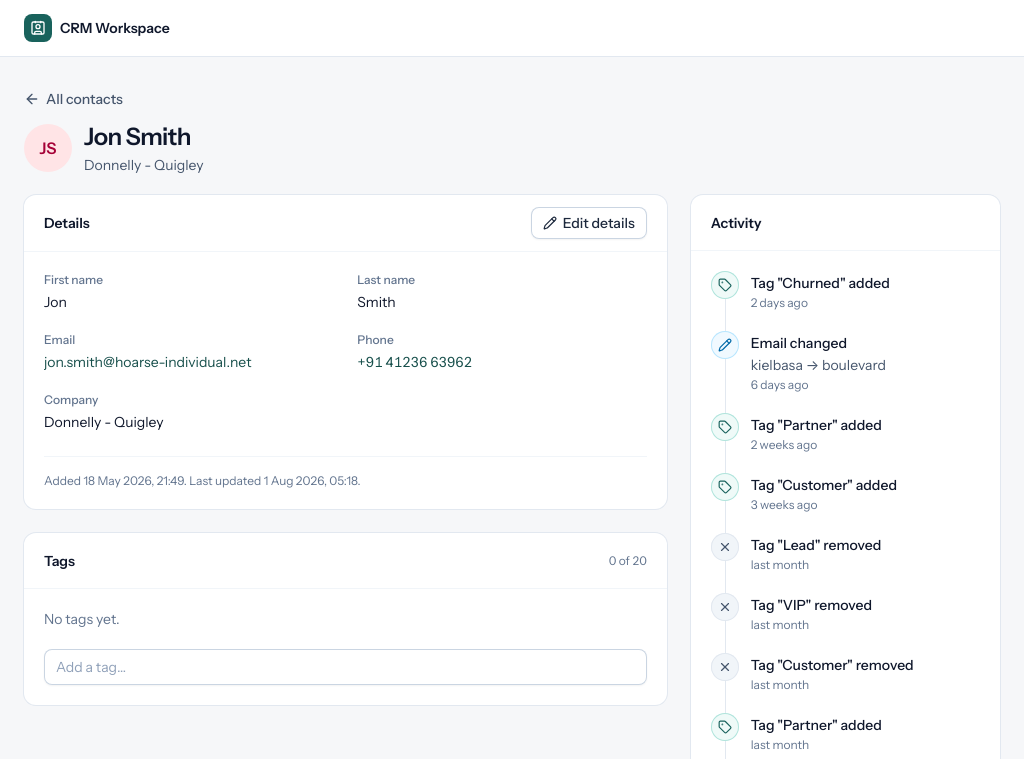
it: stale saves after the contact refreshed mid-edit › still detects the conflict when a tag change refreshed the contact during the edit
This screenshot has width=1024, height=759.
Click the button "Edit details" at [589, 223], box top-left (531, 207), bottom-right (647, 239)
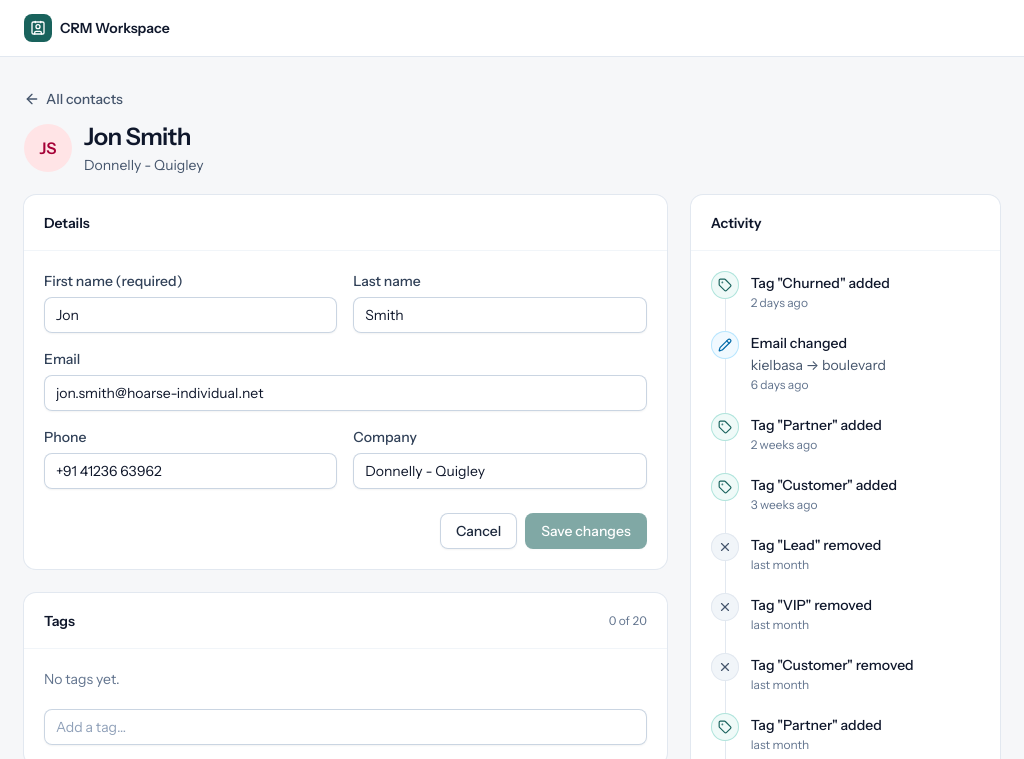
# Adding a tag returns the newer contact (their phone, new version) and puts it in the store.
Type "Partner" into the dropdown labelled "Add a tag" at [345, 727], box top-left (44, 709), bottom-right (647, 745)
Then press Enter
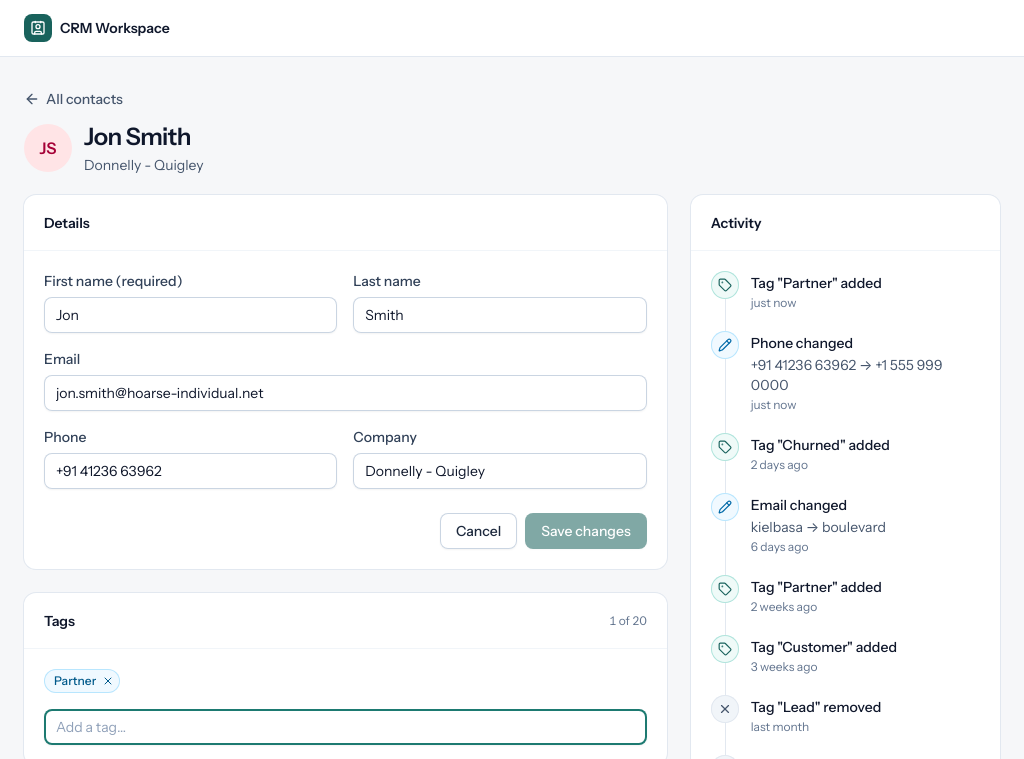
Check: the button named "Remove tag Partner" is shown, box top-left (100, 673), bottom-right (116, 689)
Replace the text in the field labelled "Email" with "mine@example.com" at [345, 393], box top-left (44, 375), bottom-right (647, 411)
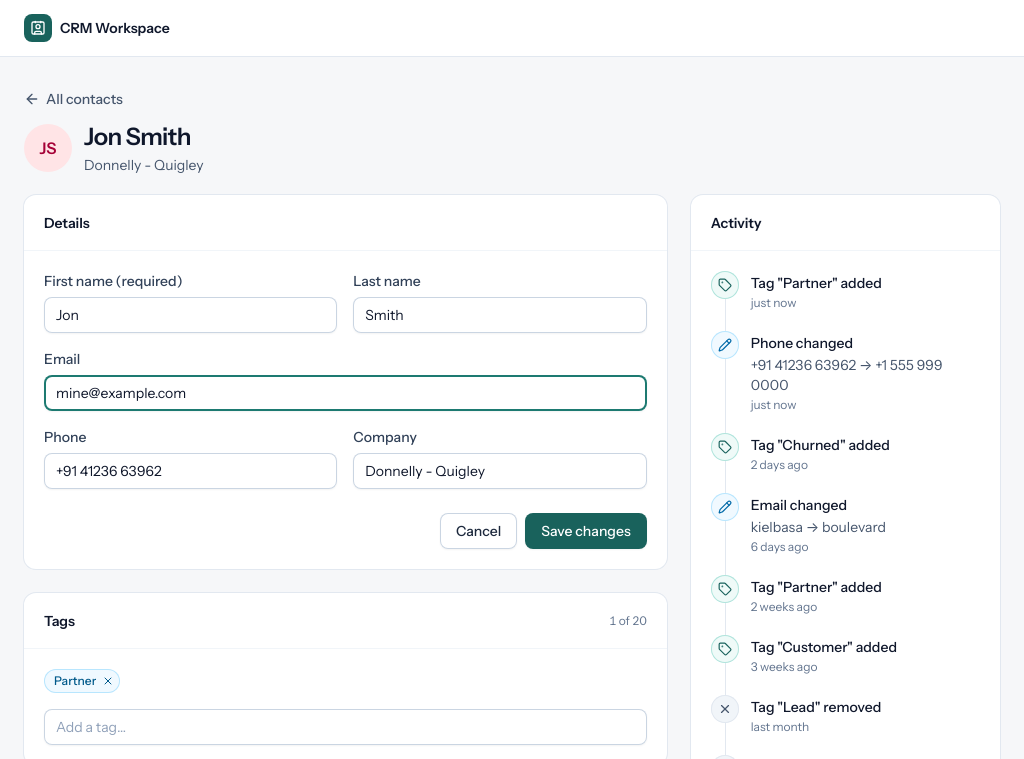
Click the button "Save changes" at [586, 531], box top-left (525, 513), bottom-right (647, 549)
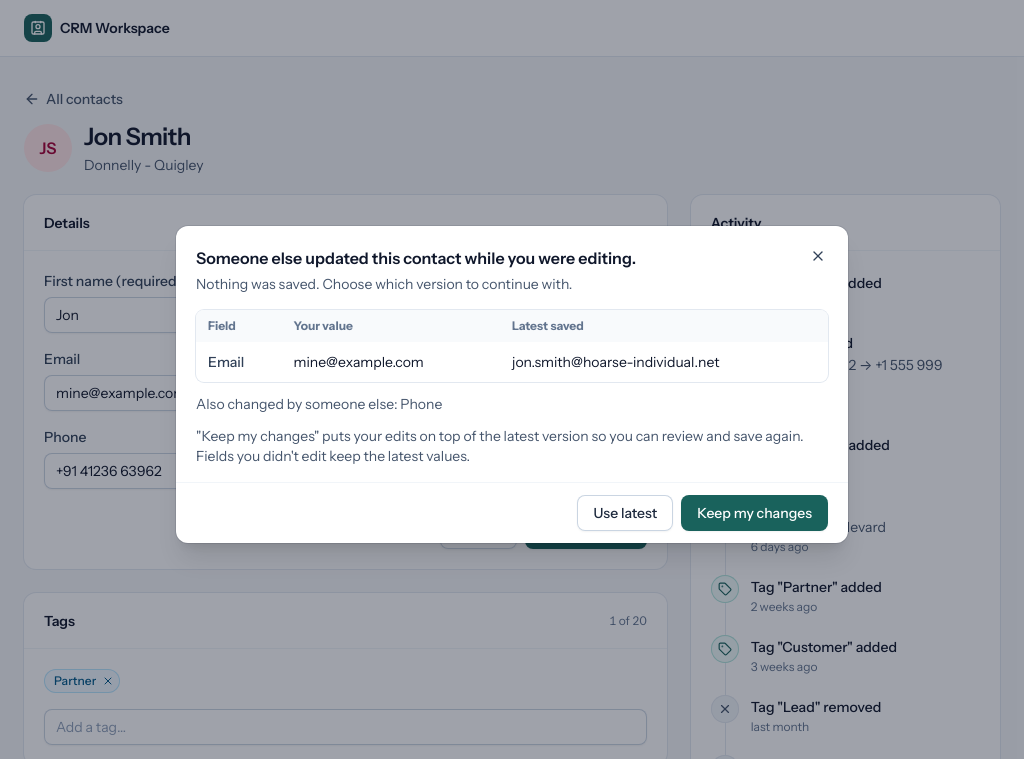
Check: the dialog "Someone else updated this contact while you were editing." is shown, box top-left (176, 226), bottom-right (848, 542)
